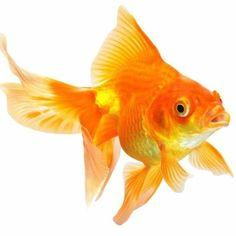goldfish: (59, 37, 233, 188)
